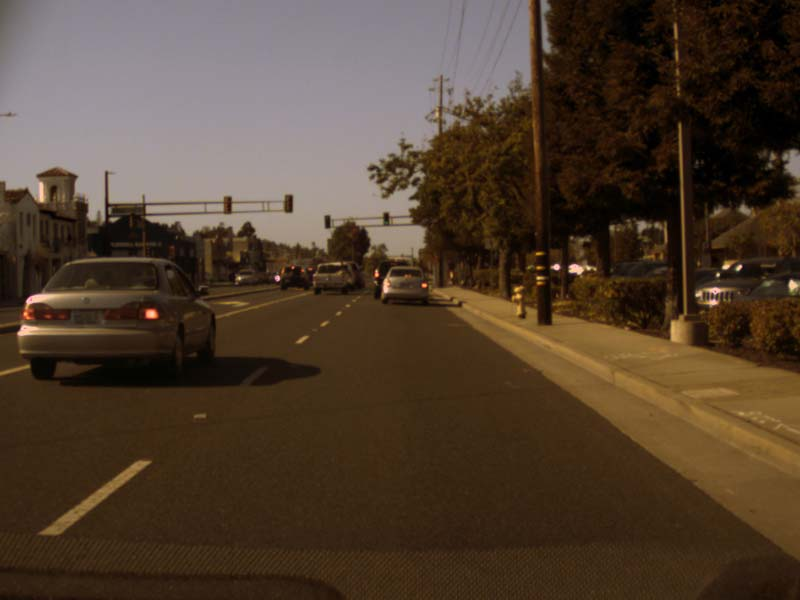Green: (382, 212, 389, 225)
